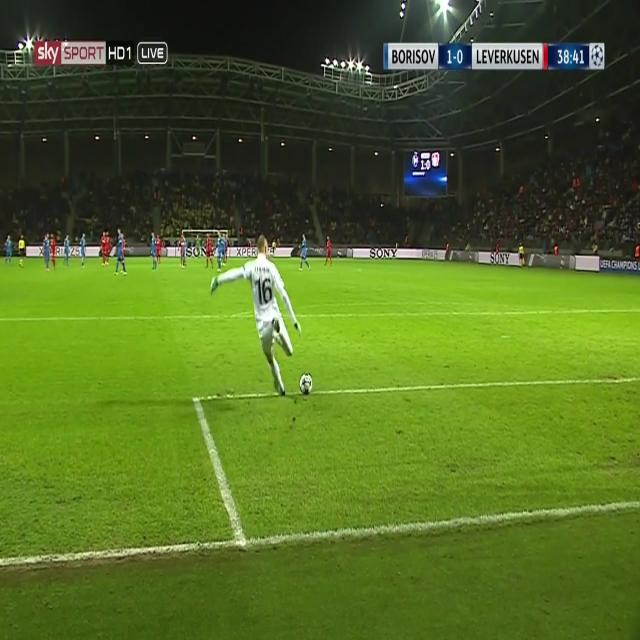Ball: (298, 368, 314, 398)
Goalkeeper: (210, 234, 303, 400), (194, 229, 202, 262)
Player: (114, 223, 126, 280), (78, 231, 90, 272), (298, 231, 310, 272), (204, 230, 214, 272), (323, 235, 334, 268), (4, 234, 14, 268), (150, 231, 158, 272), (216, 233, 224, 272), (154, 230, 163, 264), (99, 230, 107, 267), (50, 231, 57, 272), (43, 232, 50, 271), (63, 233, 71, 267)
Referee: (16, 234, 27, 270), (517, 238, 525, 265), (271, 235, 276, 259)
